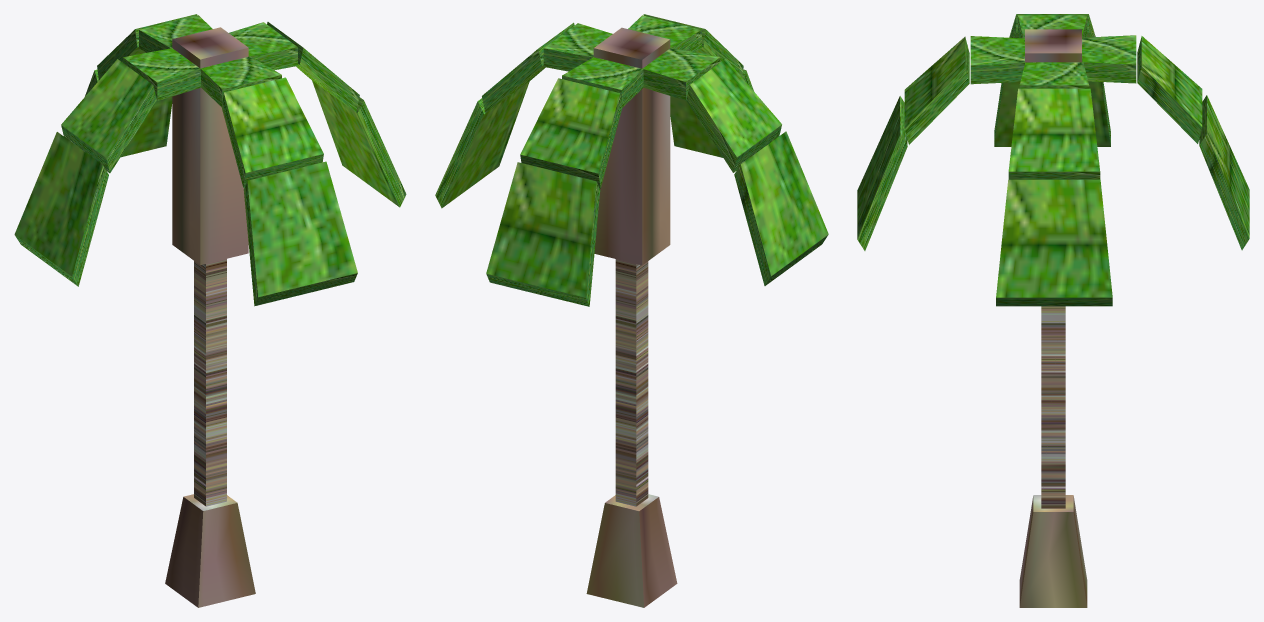
Rendered from Palm2.obj.
3 views of the same model, side by side, from view 1: azimuth 30°, elevation 25°; view 2: azimuth 150°, elevation 25°; view 3: azimuth 270°, elevation 25° (orthographic).
Parts seen in each view (by area): view 1: SM_Env_Palm_01_Mesh; view 2: SM_Env_Palm_01_Mesh; view 3: SM_Env_Palm_01_Mesh.
Part boxes in pixels (x1,y1,x2,y2): SM_Env_Palm_01_Mesh: [14, 14, 406, 607]; SM_Env_Palm_01_Mesh: [435, 14, 828, 607]; SM_Env_Palm_01_Mesh: [857, 14, 1249, 607].
Bounding box in the file's own units: 526 × 818 × 526.
Materials: 1 (1 with a texture image).
